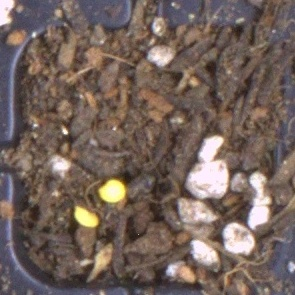chilli seed: (97, 179, 126, 203), (73, 205, 99, 227)
